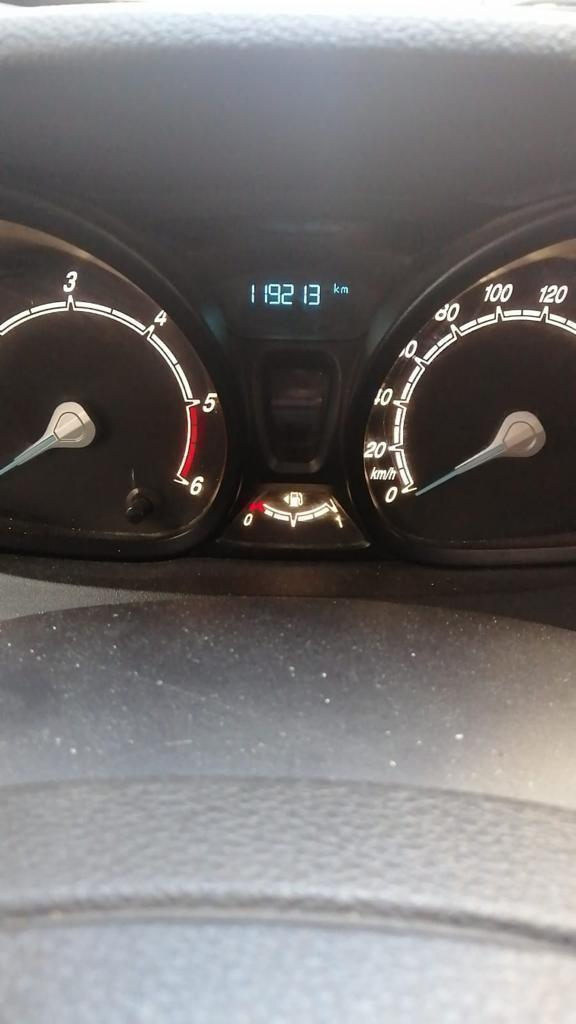1: (247, 282, 257, 304), (259, 283, 268, 305), (299, 283, 307, 304)
2: (281, 283, 295, 305)
3: (308, 283, 321, 306)
9: (267, 283, 280, 304)
X: (332, 282, 340, 294), (340, 285, 349, 295)
odometer: (222, 269, 373, 343)
